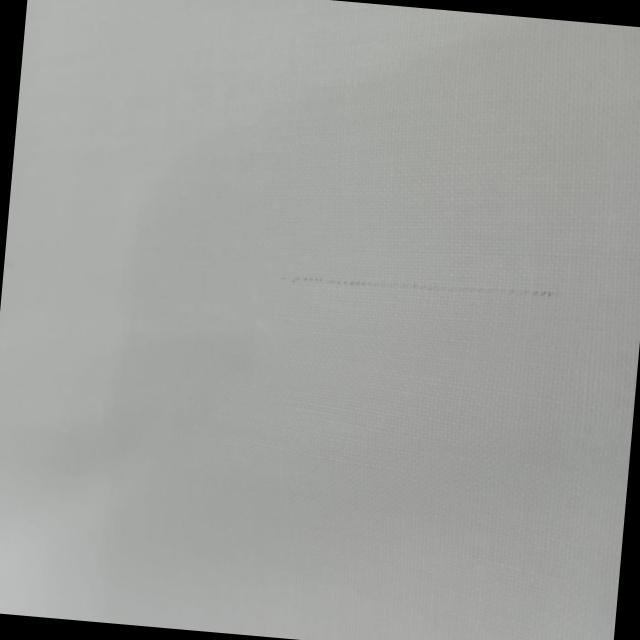contamination: (282, 258, 562, 313)
